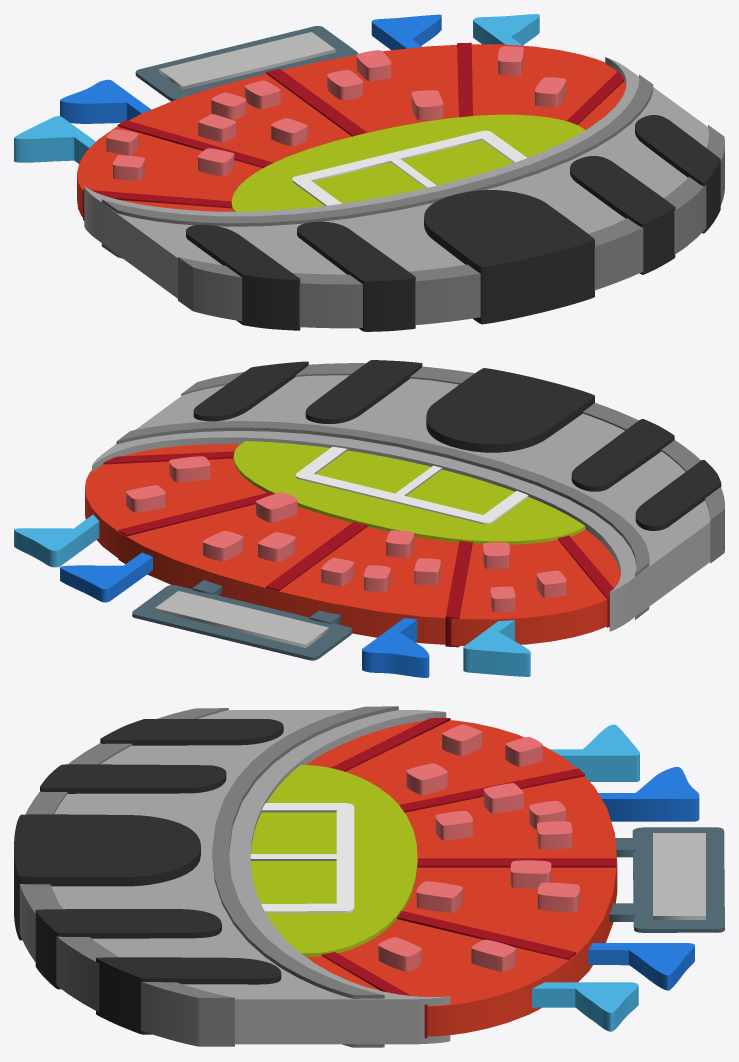
File: emoji_u1f3df.glb
3 views of the same model, one above another, from view 1: azimuth 30°, elevation 25°; view 2: azimuth 150°, elevation 25°; view 3: azimuth 270°, elevation 25° (orthographic). The views are drawn at different scales.
Parts seen in each view (by area): view 1: emoji_u1f3df; view 2: emoji_u1f3df; view 3: emoji_u1f3df.
Boxes of the visible parts, box(x1,y1,x2,y2) form: emoji_u1f3df: box(14, 14, 724, 331); emoji_u1f3df: box(14, 360, 724, 677); emoji_u1f3df: box(14, 706, 724, 1047).
Bounding box in the file's own units: 0.0331 × 0.0034 × 0.0343.
